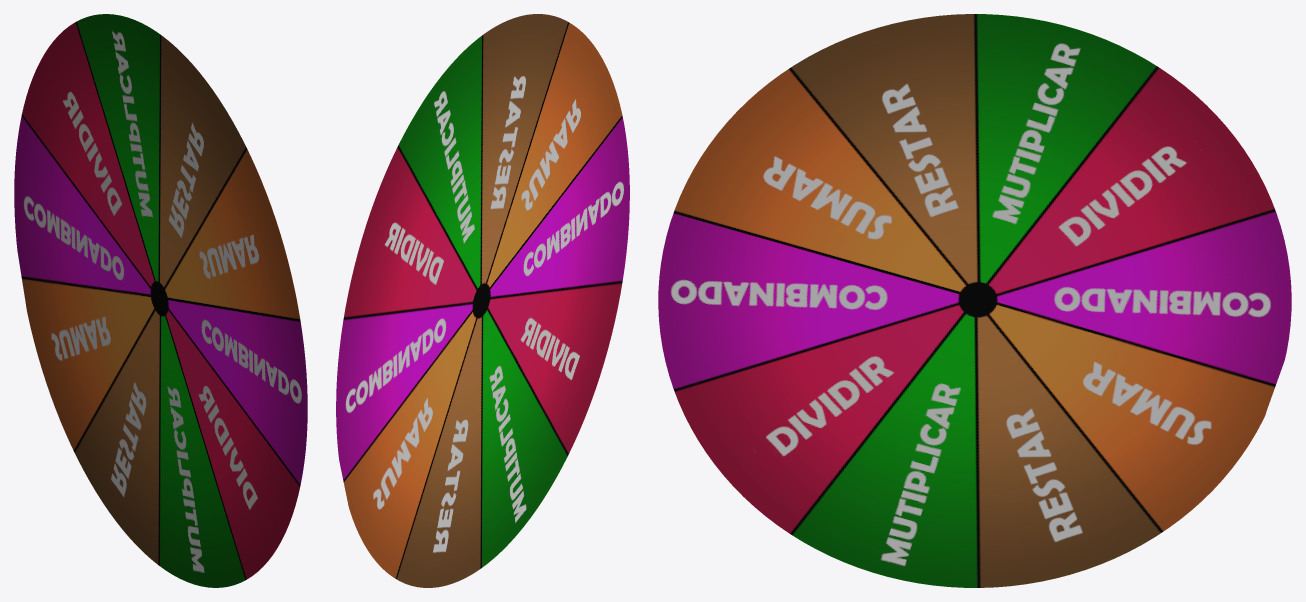
Rendered from rueda.fbx.
3 renders of one model, left to right at view 1: azimuth 30°, elevation 25°; view 2: azimuth 150°, elevation 25°; view 3: azimuth 270°, elevation 25°, orthographic. The views are drawn at different scales.
Visible parts, largest first — view 1: Rueda; view 2: Rueda; view 3: Rueda.
Boxes of the visible parts, x1,y1,x2,y2 form: Rueda: (14,14,307,587); Rueda: (336,14,629,587); Rueda: (658,14,1291,587).
Size of the model in its own units: 0.000909 by 3.86 by 3.86.
